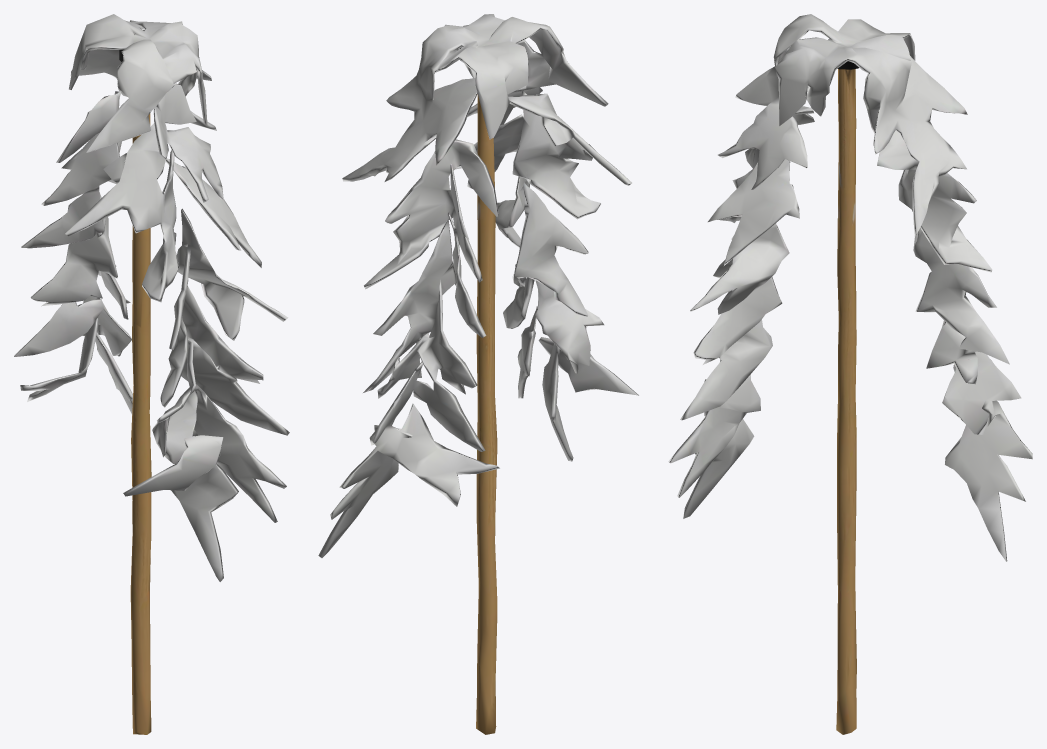
Rendered from gohei.glb.
The picture shows the model from 3 angles, left to right: view 1: azimuth 30°, elevation 25°; view 2: azimuth 150°, elevation 25°; view 3: azimuth 270°, elevation 25°; orthographic projection.
Visible parts, largest first — view 1: tripo_node_c4b712ac-2a9f-4e79-810f-a884008e6aa8; view 2: tripo_node_c4b712ac-2a9f-4e79-810f-a884008e6aa8; view 3: tripo_node_c4b712ac-2a9f-4e79-810f-a884008e6aa8.
Boxes of the visible parts, left/top/right/bottom form: tripo_node_c4b712ac-2a9f-4e79-810f-a884008e6aa8: left=14, top=14, right=289, bottom=734; tripo_node_c4b712ac-2a9f-4e79-810f-a884008e6aa8: left=318, top=14, right=638, bottom=734; tripo_node_c4b712ac-2a9f-4e79-810f-a884008e6aa8: left=668, top=14, right=1032, bottom=734.
Bounding box in the file's own units: 0.3289 × 1 × 0.4716.
1 material, 1 textured.
